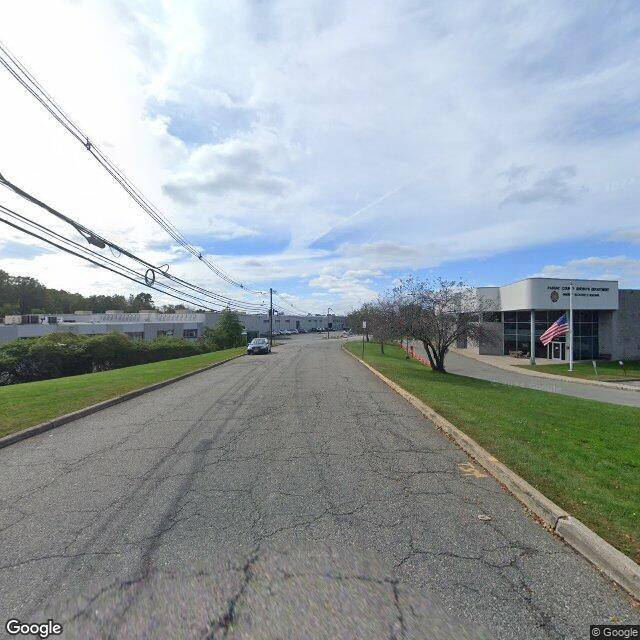pothole: (208, 606, 239, 637)
